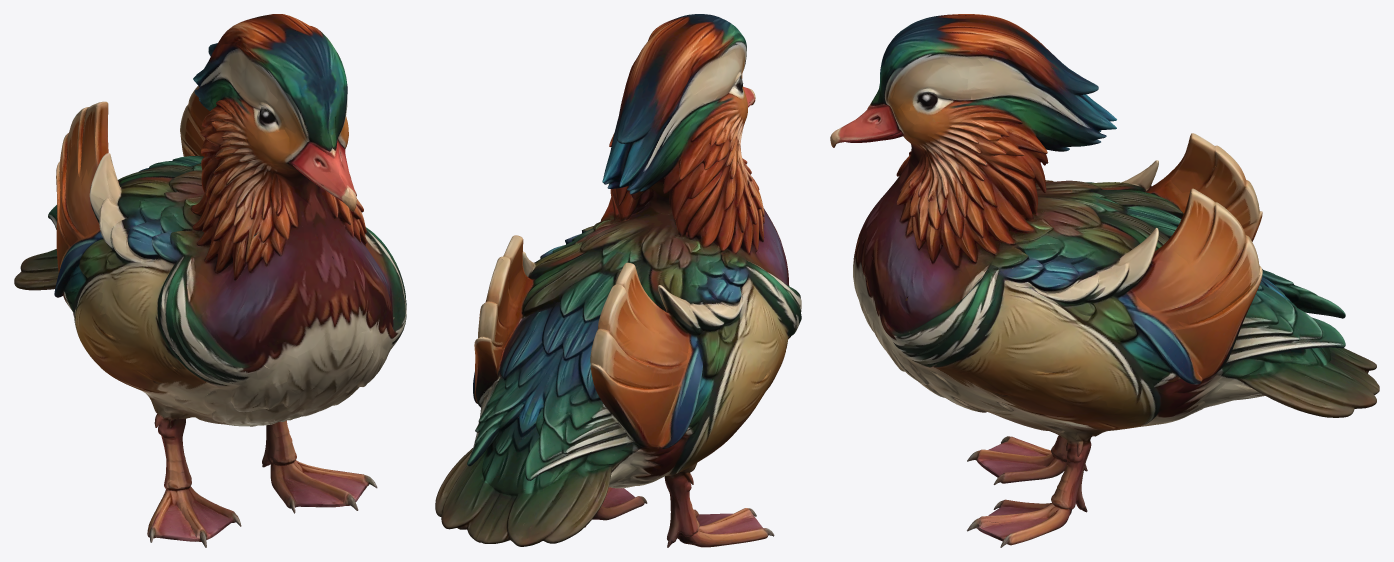
Rendered from mandarin_duck.glb.
3 renders of one model, left to right at view 1: azimuth 30°, elevation 25°; view 2: azimuth 150°, elevation 25°; view 3: azimuth 270°, elevation 25°, orthographic. The views are drawn at different scales.
Visible parts, largest first — view 1: output_unwrapped; view 2: output_unwrapped; view 3: output_unwrapped.
Part boxes in pixels (bbox=[...]): output_unwrapped: bbox=[14, 14, 406, 547]; output_unwrapped: bbox=[435, 14, 801, 547]; output_unwrapped: bbox=[830, 14, 1379, 547].
Bounding box in the file's own units: 0.9851 × 1.82 × 1.9.
1 material, 1 textured.
